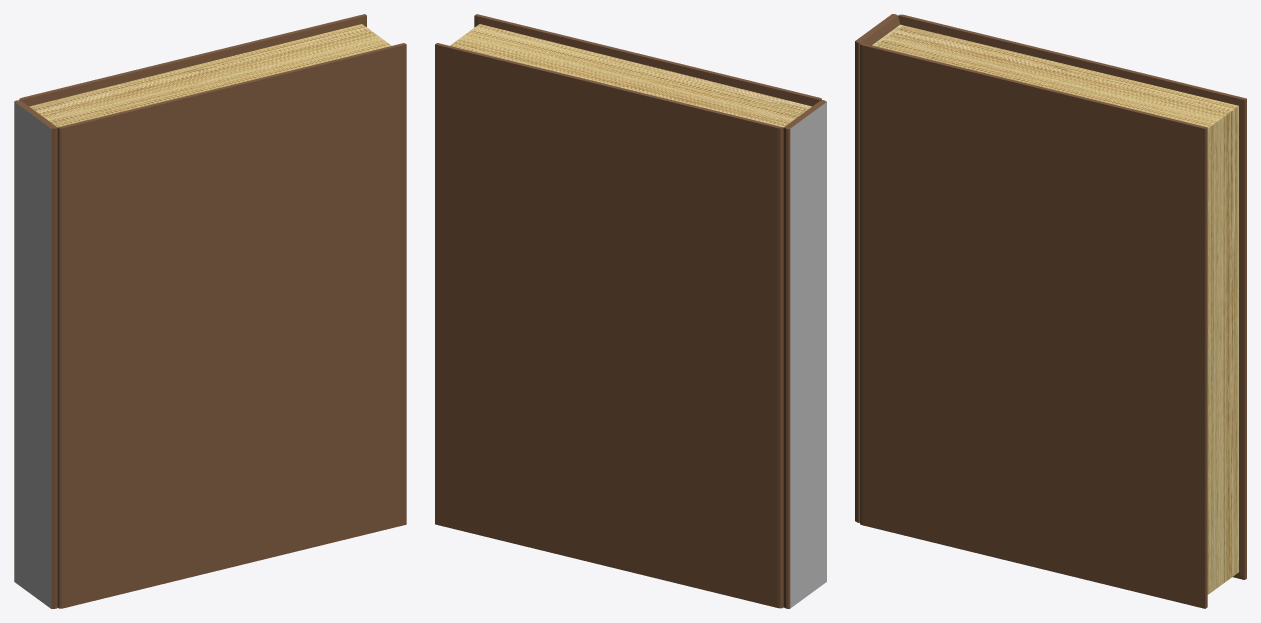
File: 3kniga 1untitled.fbx
3 renders of one model, left to right at view 1: azimuth 30°, elevation 25°; view 2: azimuth 150°, elevation 25°; view 3: azimuth 330°, elevation 25°, orthographic.
Parts seen in each view (by area): view 1: Cube.006; view 2: Cube.006; view 3: Cube.006.
Boxes of the visible parts, x1,y1,x2,y2 form: Cube.006: [14, 14, 406, 608]; Cube.006: [435, 14, 826, 608]; Cube.006: [855, 14, 1246, 608].
Bounding box in the file's own units: 8.73 × 11.36 × 1.78.
